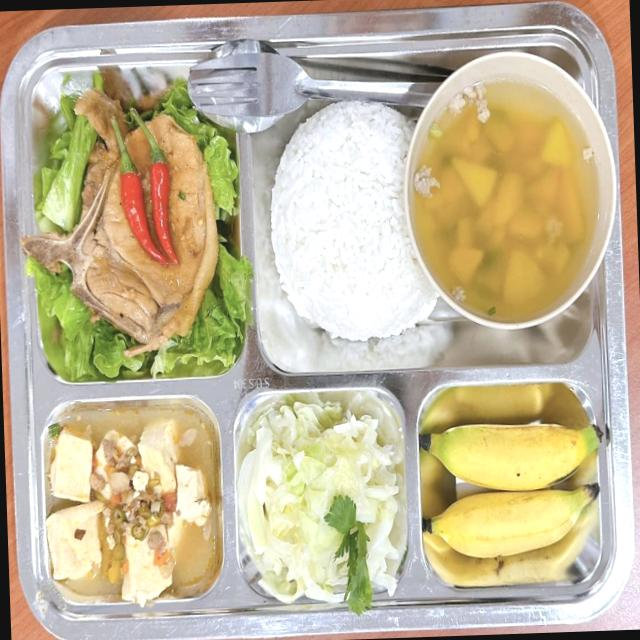bap cai xao: (235, 389, 407, 603)
canh bi do: (413, 82, 592, 322)
chuoi: (429, 423, 597, 490), (432, 487, 591, 557)
com: (271, 101, 438, 340)
dau hu: (46, 421, 211, 606)
suon mieng: (23, 92, 218, 349)
